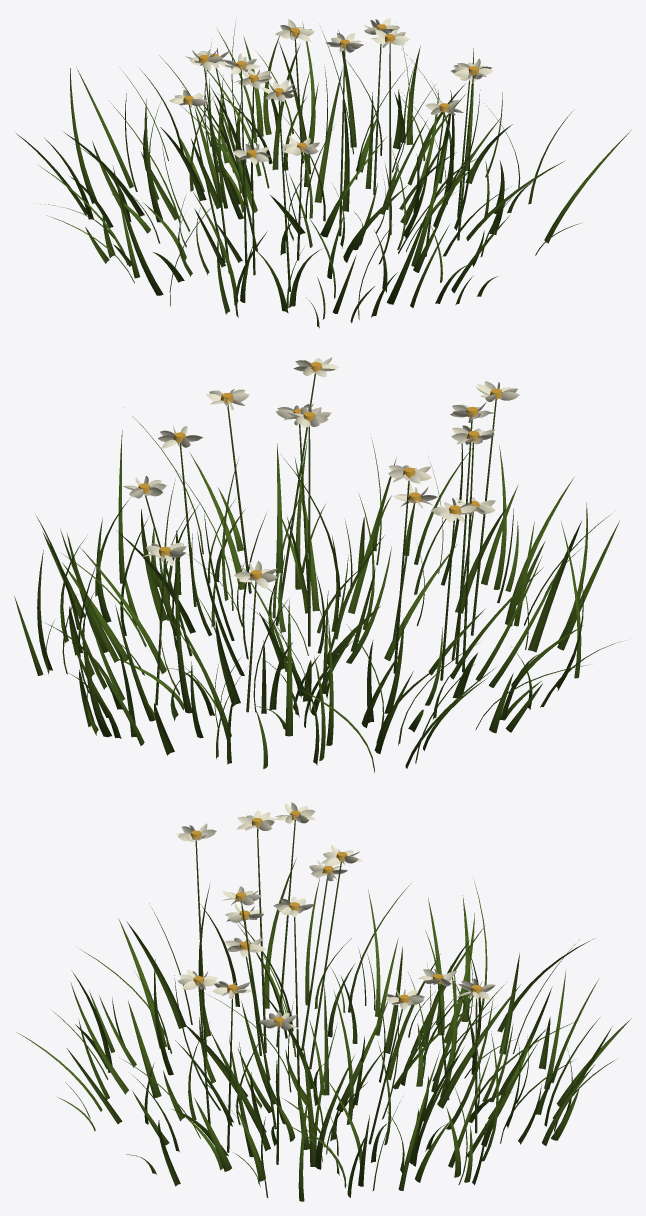
The model's file is meadow_flowers_lod0.gltf.
3 renders of one model, top to bottom at view 1: azimuth 30°, elevation 25°; view 2: azimuth 150°, elevation 25°; view 3: azimuth 270°, elevation 25°, orthographic. The views are drawn at different scales.
Visible parts, largest first — view 1: meadow_flowers_lod0; view 2: meadow_flowers_lod0; view 3: meadow_flowers_lod0.
Boxes of the visible parts, x1=… form: meadow_flowers_lod0: x1=16, y1=18, x2=631, y2=328; meadow_flowers_lod0: x1=14, y1=357, x2=620, y2=772; meadow_flowers_lod0: x1=17, y1=802, x2=631, y2=1201.
Bounding box in the file's own units: 1.01 × 0.4172 × 1.01.
3 materials, 1 textured.
